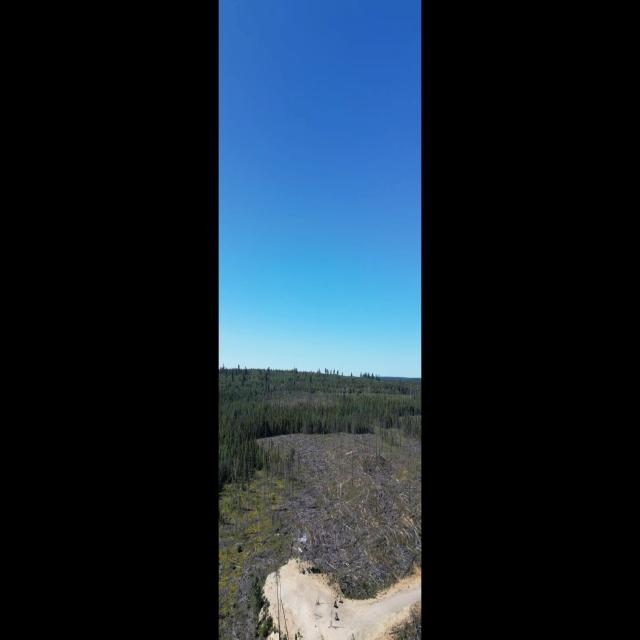Rocket: (330, 608, 332, 623), (318, 595, 318, 603)
